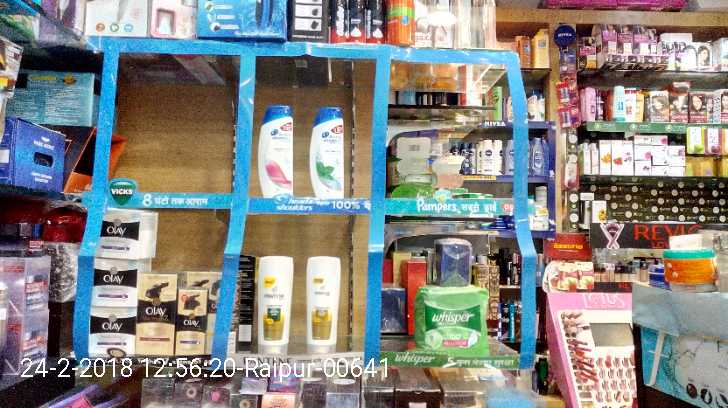gillete: (368, 1, 383, 42), (331, 1, 345, 42)
venus: (349, 1, 362, 42)
